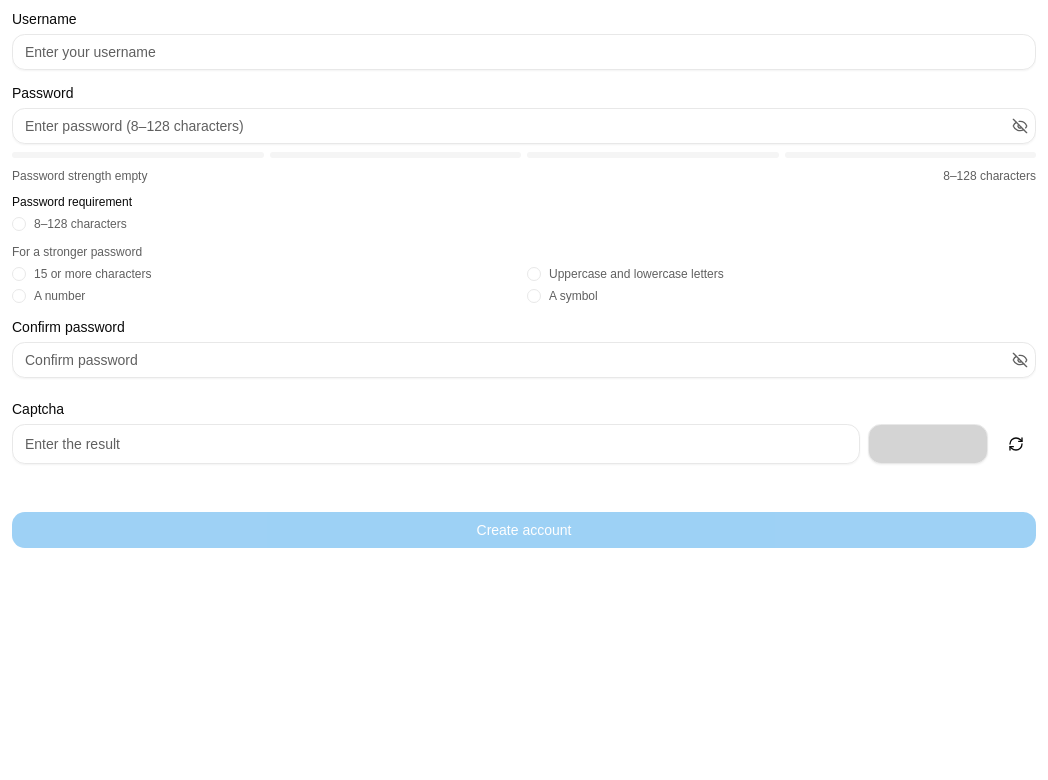
keeps registration disabled until the captcha is answered without email verification
This screenshot has width=1048, height=780.
Expected: the button "Create account" is shown, [12,512,1036,548]
Type "new-user" into the field labelled "Username" at coordinates (524, 52), box [12,34,1036,70]
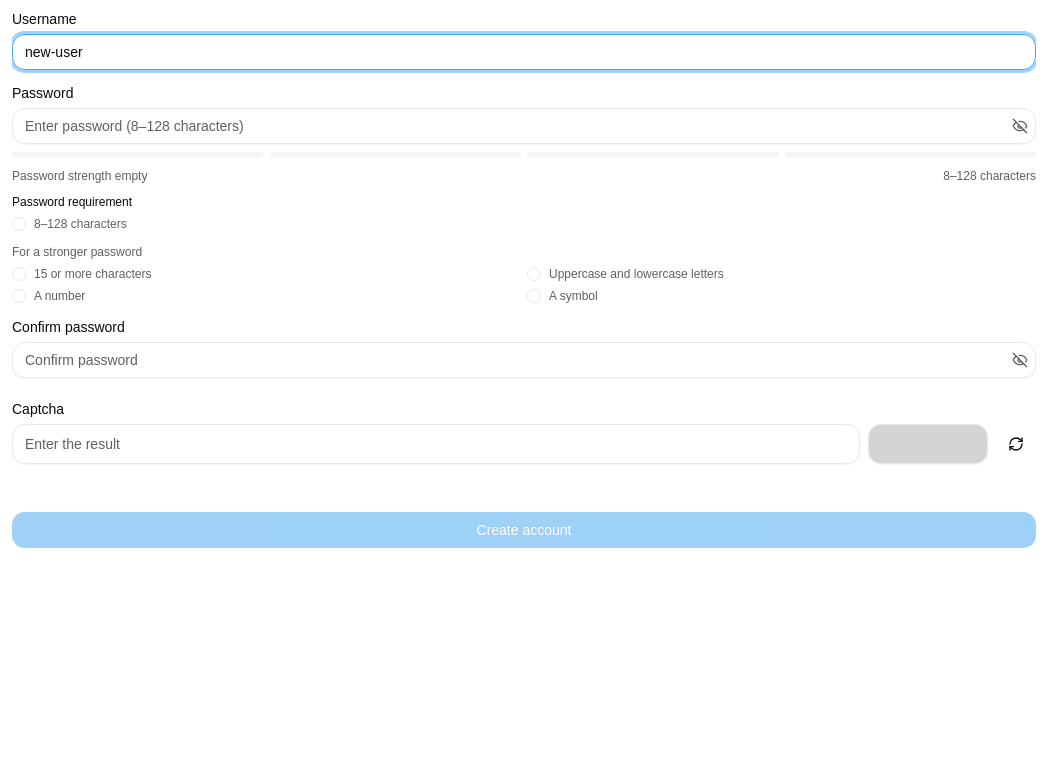
Type "password123" into the password field labelled "Password" at coordinates (524, 126), box [12,108,1036,144]
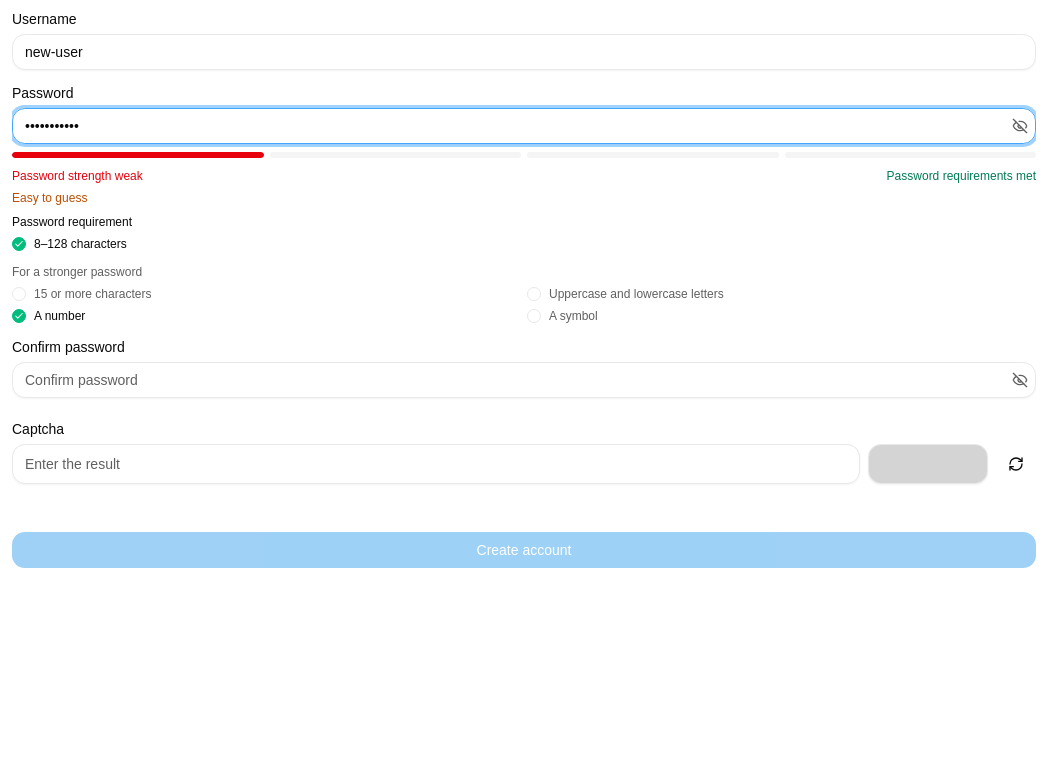
Type "password123" into the password field labelled "Confirm password" at coordinates (524, 380), box [12,362,1036,398]
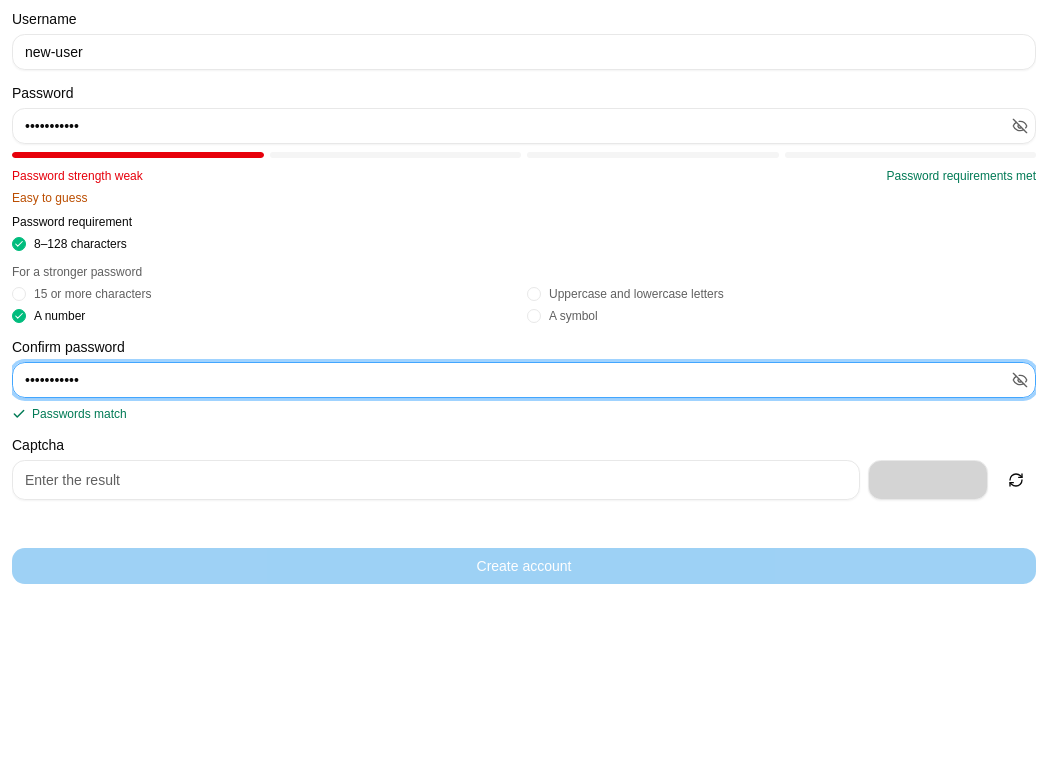
Expected: the button "Create account" is disabled, [12,548,1036,584]
Type "12" into the field labelled "Captcha" at coordinates (436, 480), box [12,460,860,500]
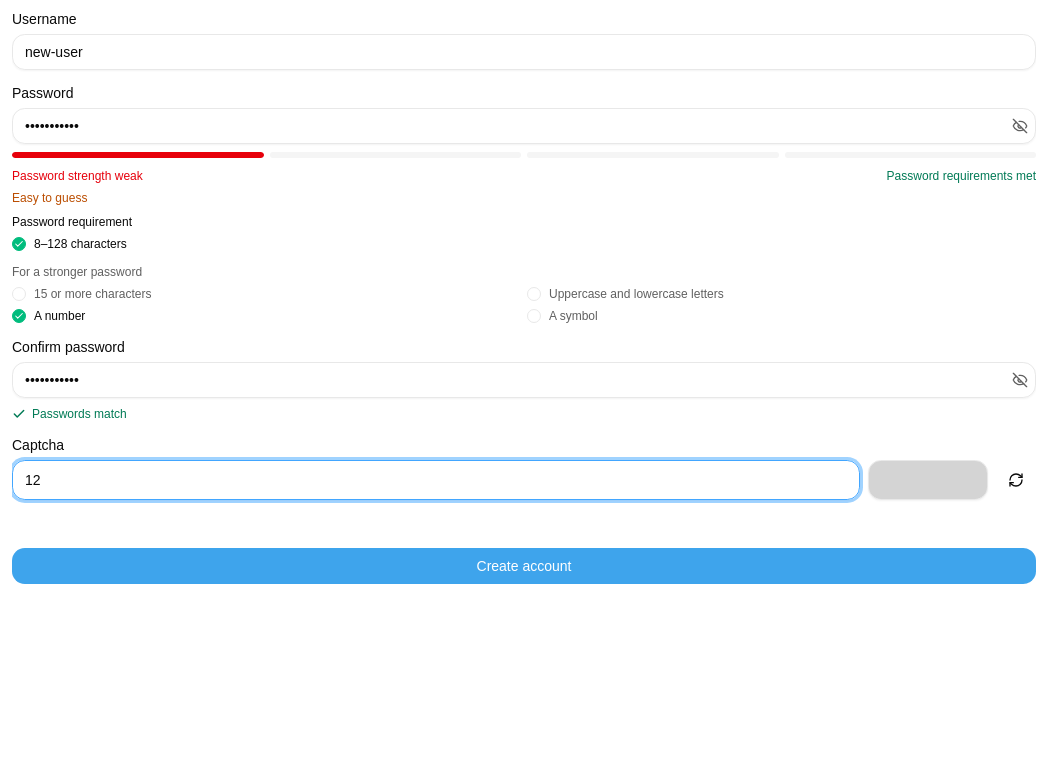
Now the button "Create account" is enabled, box [12,548,1036,584]
